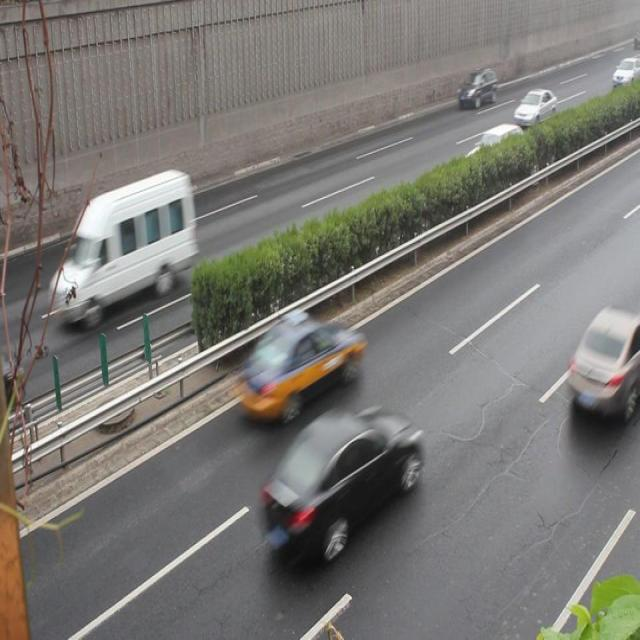car: (258, 401, 422, 552), (231, 314, 362, 417), (564, 303, 639, 415), (463, 122, 521, 178), (510, 84, 554, 126), (455, 65, 495, 107)
